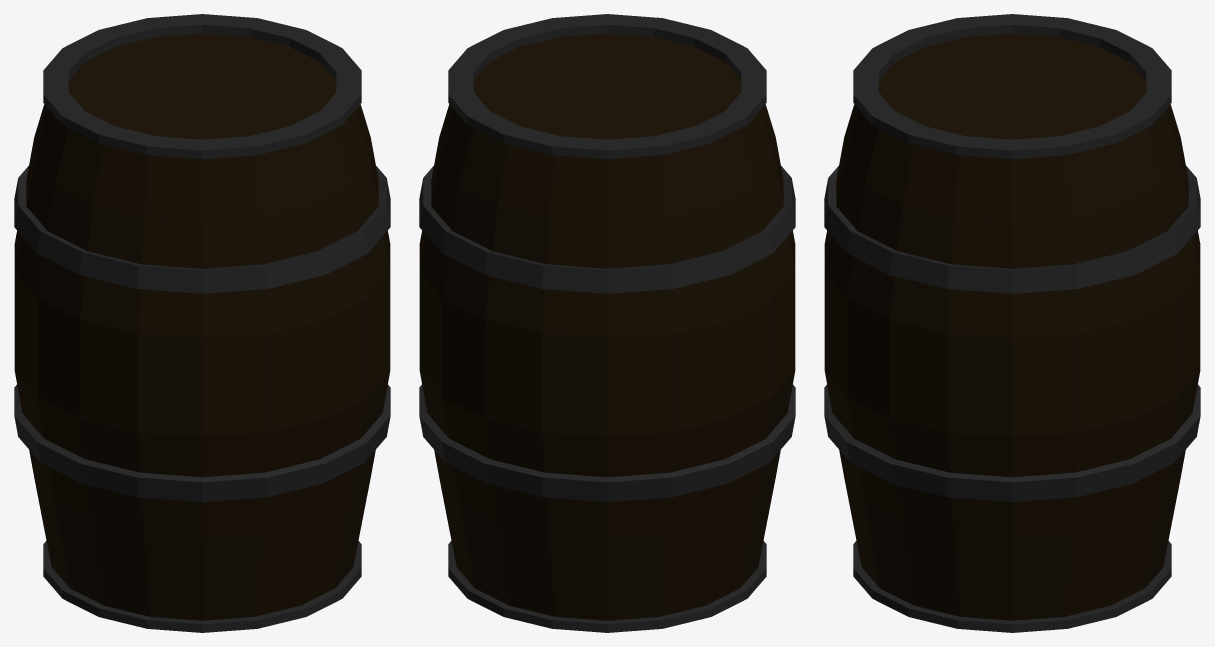
File: barrel_01.FBX
3 renders of one model, left to right at view 1: azimuth 30°, elevation 25°; view 2: azimuth 150°, elevation 25°; view 3: azimuth 270°, elevation 25°, orthographic.
Parts seen in each view (by area): view 1: Cylinder001; view 2: Cylinder001; view 3: Cylinder001.
Boxes of the visible parts, x1,y1,x2,y2 form: Cylinder001: (14, 14, 390, 632); Cylinder001: (419, 14, 795, 632); Cylinder001: (824, 14, 1200, 632).
Bounding box in the file's own units: 45.23 × 63 × 44.54.
